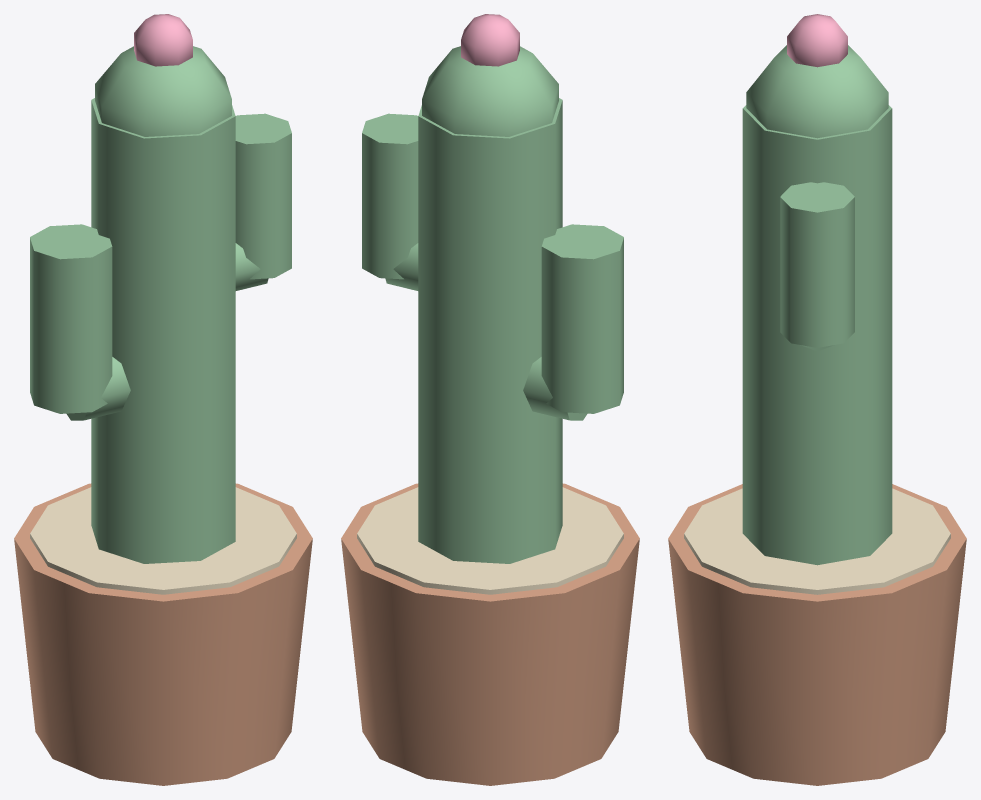
3 renders of one model, left to right at view 1: azimuth 30°, elevation 25°; view 2: azimuth 150°, elevation 25°; view 3: azimuth 270°, elevation 25°, orthographic.
Visible parts, largest first — view 1: Decor_cactus; view 2: Decor_cactus; view 3: Decor_cactus.
Boxes of the visible parts, x1,y1,x2,y2 form: Decor_cactus: (14, 14, 312, 785); Decor_cactus: (341, 14, 639, 785); Decor_cactus: (668, 14, 966, 785).
Size of the model in its own units: 0.28 by 0.74 by 0.28.
